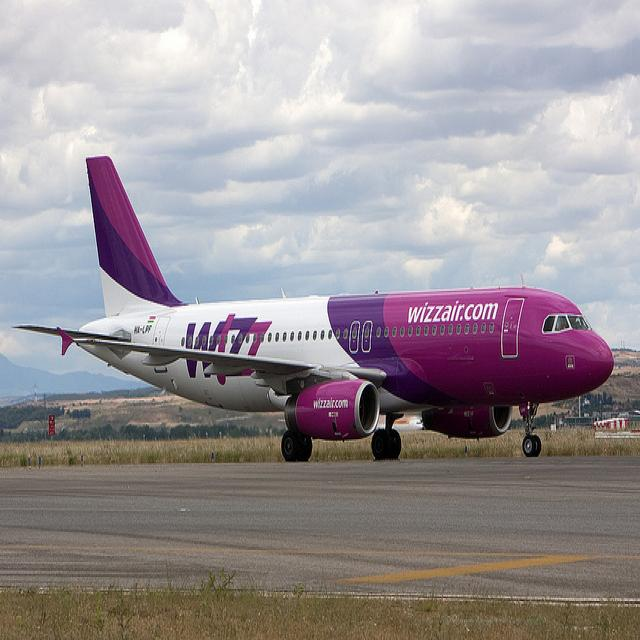airplane: (11, 153, 617, 466)
